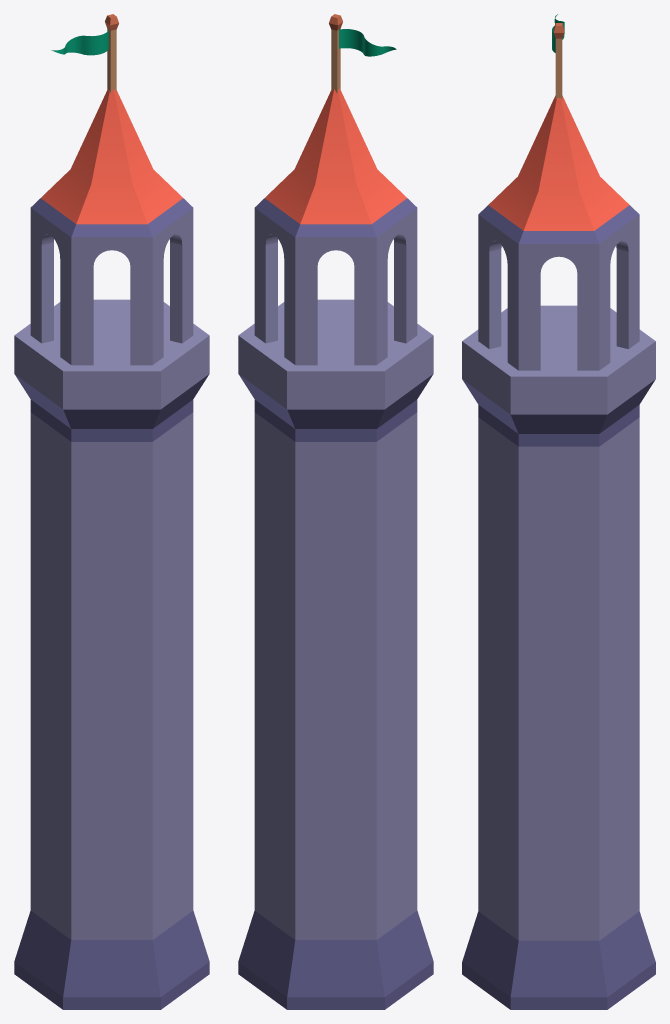
Rendered from tower.glb.
3 views of the same model, side by side, from view 1: azimuth 30°, elevation 25°; view 2: azimuth 150°, elevation 25°; view 3: azimuth 270°, elevation 25° (orthographic).
Visible parts, largest first — view 1: hexagon (×3), hexagon_overhang, hexagon_base, hexagon_arches, hexagon_roof, flag_triangle; view 2: hexagon (×3), hexagon_overhang, hexagon_base, hexagon_arches, hexagon_roof, flag_triangle; view 3: hexagon (×3), hexagon_overhang, hexagon_base, hexagon_arches, hexagon_roof, flag_triangle.
Part boxes in pixels (x1,y1,x2,y2): hexagon (×3): [30, 463, 193, 876]; hexagon_overhang: [14, 299, 209, 492]; hexagon_base: [14, 847, 209, 1009]; hexagon_arches: [30, 208, 193, 365]; hexagon_roof: [30, 89, 193, 237]; flag_triangle: [51, 14, 118, 93]; hexagon (×3): [254, 463, 417, 876]; hexagon_overhang: [238, 299, 433, 492]; hexagon_base: [238, 847, 433, 1009]; hexagon_arches: [254, 208, 417, 365]; hexagon_roof: [254, 89, 417, 237]; flag_triangle: [329, 14, 396, 93]; hexagon (×3): [478, 468, 639, 877]; hexagon_overhang: [462, 305, 655, 497]; hexagon_base: [462, 848, 655, 1009]; hexagon_arches: [478, 215, 639, 370]; hexagon_roof: [478, 95, 639, 243]; flag_triangle: [552, 14, 564, 100].
Size of the model in its own units: 1.2 by 7.5 by 1.39.
